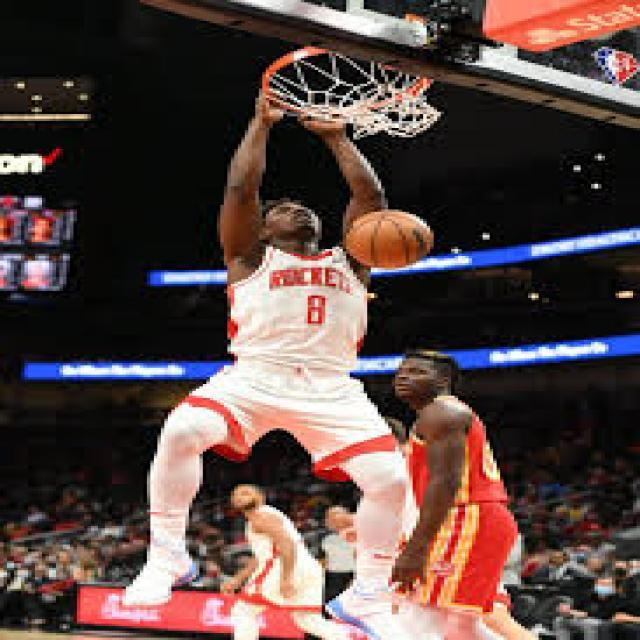rim: (346, 209, 430, 270)
